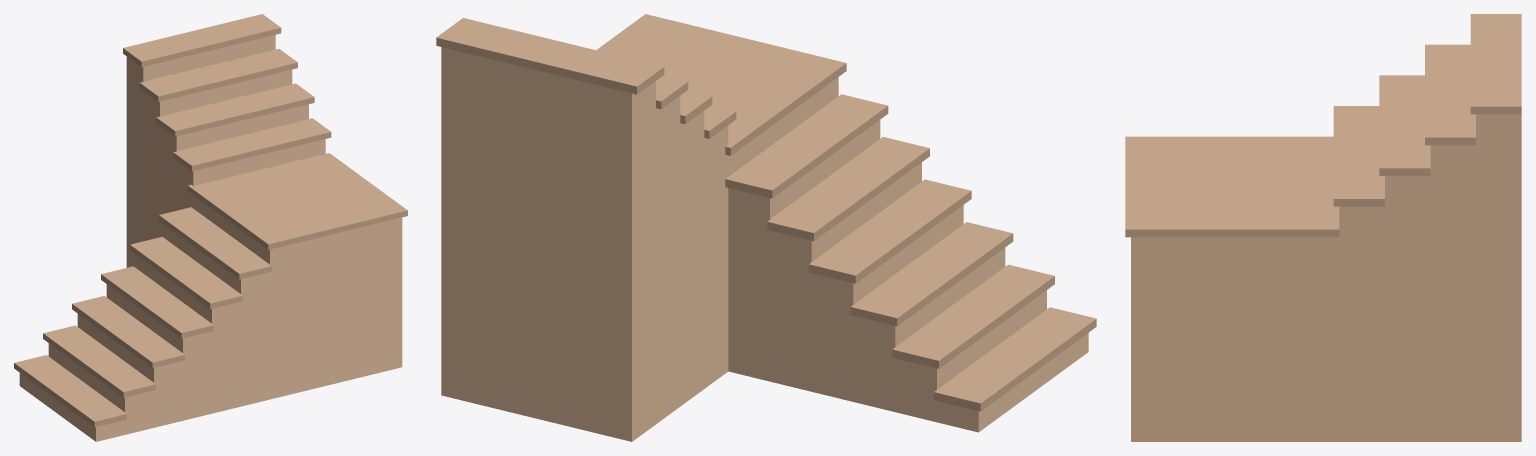
The model's file is stairsCorner.glb.
The picture shows the model from 3 angles, left to right: view 1: azimuth 30°, elevation 25°; view 2: azimuth 150°, elevation 25°; view 3: azimuth 270°, elevation 25°; orthographic projection. The views are drawn at different scales.
Parts seen in each view (by area): view 1: stairsCorner(Clone); view 2: stairsCorner(Clone); view 3: stairsCorner(Clone).
Part boxes in pixels (<box>): stairsCorner(Clone): <box>14,14,407,441</box>; stairsCorner(Clone): <box>436,14,1096,441</box>; stairsCorner(Clone): <box>1125,14,1521,441</box>.
Bounding box in the file's own units: 1.77 × 1.34 × 1.43.
